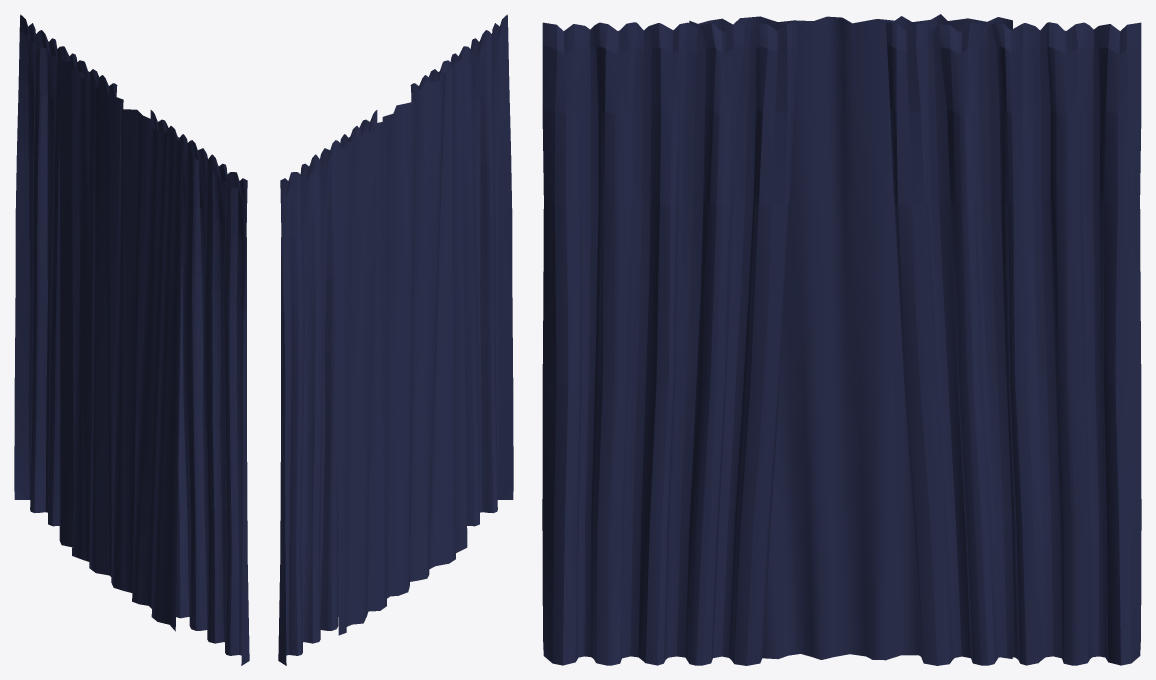
Rendered from Curtain.fbx.
3 views of the same model, side by side, from view 1: azimuth 30°, elevation 25°; view 2: azimuth 150°, elevation 25°; view 3: azimuth 270°, elevation 25° (orthographic). The views are drawn at different scales.
Parts seen in each view (by area): view 1: Curtain1; view 2: Curtain1; view 3: Curtain1.
Part boxes in pixels (left/top/right/bottom): Curtain1: left=14, top=14, right=249, bottom=665; Curtain1: left=278, top=14, right=513, bottom=665; Curtain1: left=542, top=14, right=1141, bottom=665.
Bounding box in the file's own units: 1.65 × 26.89 × 22.7.
